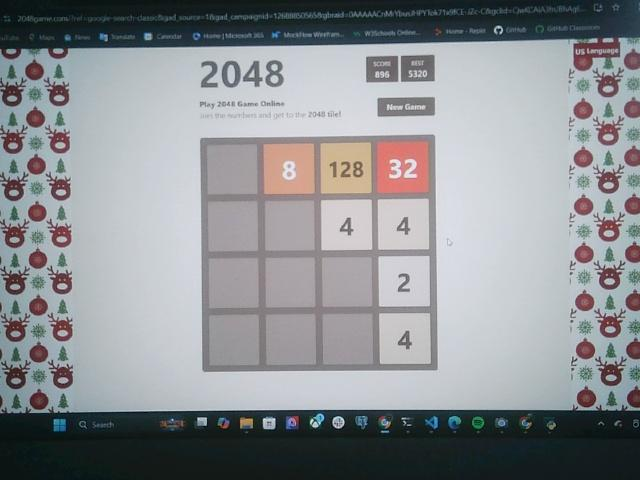board: (201, 137, 437, 372)
tile: (263, 143, 315, 195), (378, 256, 429, 308), (322, 143, 373, 194), (381, 313, 432, 364), (378, 142, 428, 193), (321, 200, 372, 250), (378, 200, 429, 250)
